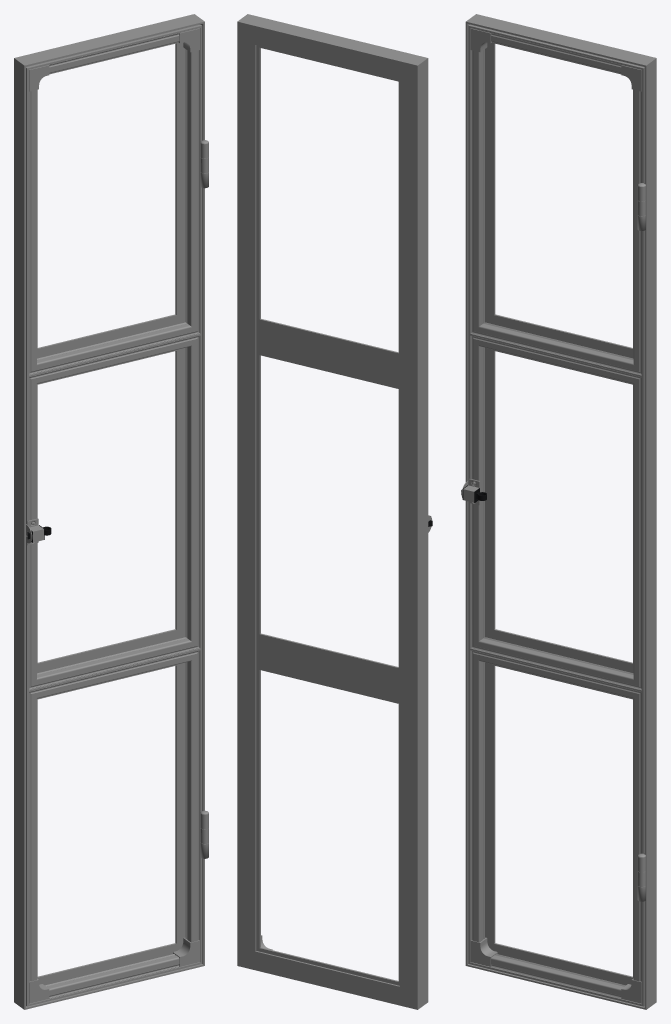
3 views of the same model, side by side, from view 1: azimuth 30°, elevation 25°; view 2: azimuth 150°, elevation 25°; view 3: azimuth 330°, elevation 25° (orthographic).
Parts seen in each view (by area): view 1: Rectangle001, Rectangle2037, Rectangle004; view 2: Rectangle2037, Rectangle001; view 3: Rectangle001, Rectangle2037, Rectangle004.
Part boxes in pixels (x1=…): Rectangle001: x1=26, y1=24, x2=202, y2=1006; Rectangle2037: x1=14, y1=14, x2=204, y2=1009; Rectangle004: x1=29, y1=28, x2=199, y2=1003; Rectangle2037: x1=237, y1=14, x2=428, y2=1009; Rectangle001: x1=256, y1=45, x2=399, y2=985; Rectangle001: x1=468, y1=24, x2=644, y2=1006; Rectangle2037: x1=465, y1=14, x2=656, y2=1009; Rectangle004: x1=470, y1=28, x2=641, y2=1003.
Size of the model in its own units: 303 by 1500 by 46.41.
6 materials, 2 textured.
